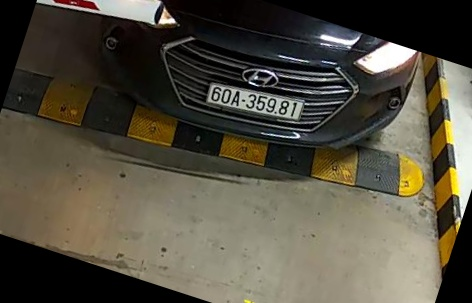plate: (205, 73, 306, 133)
